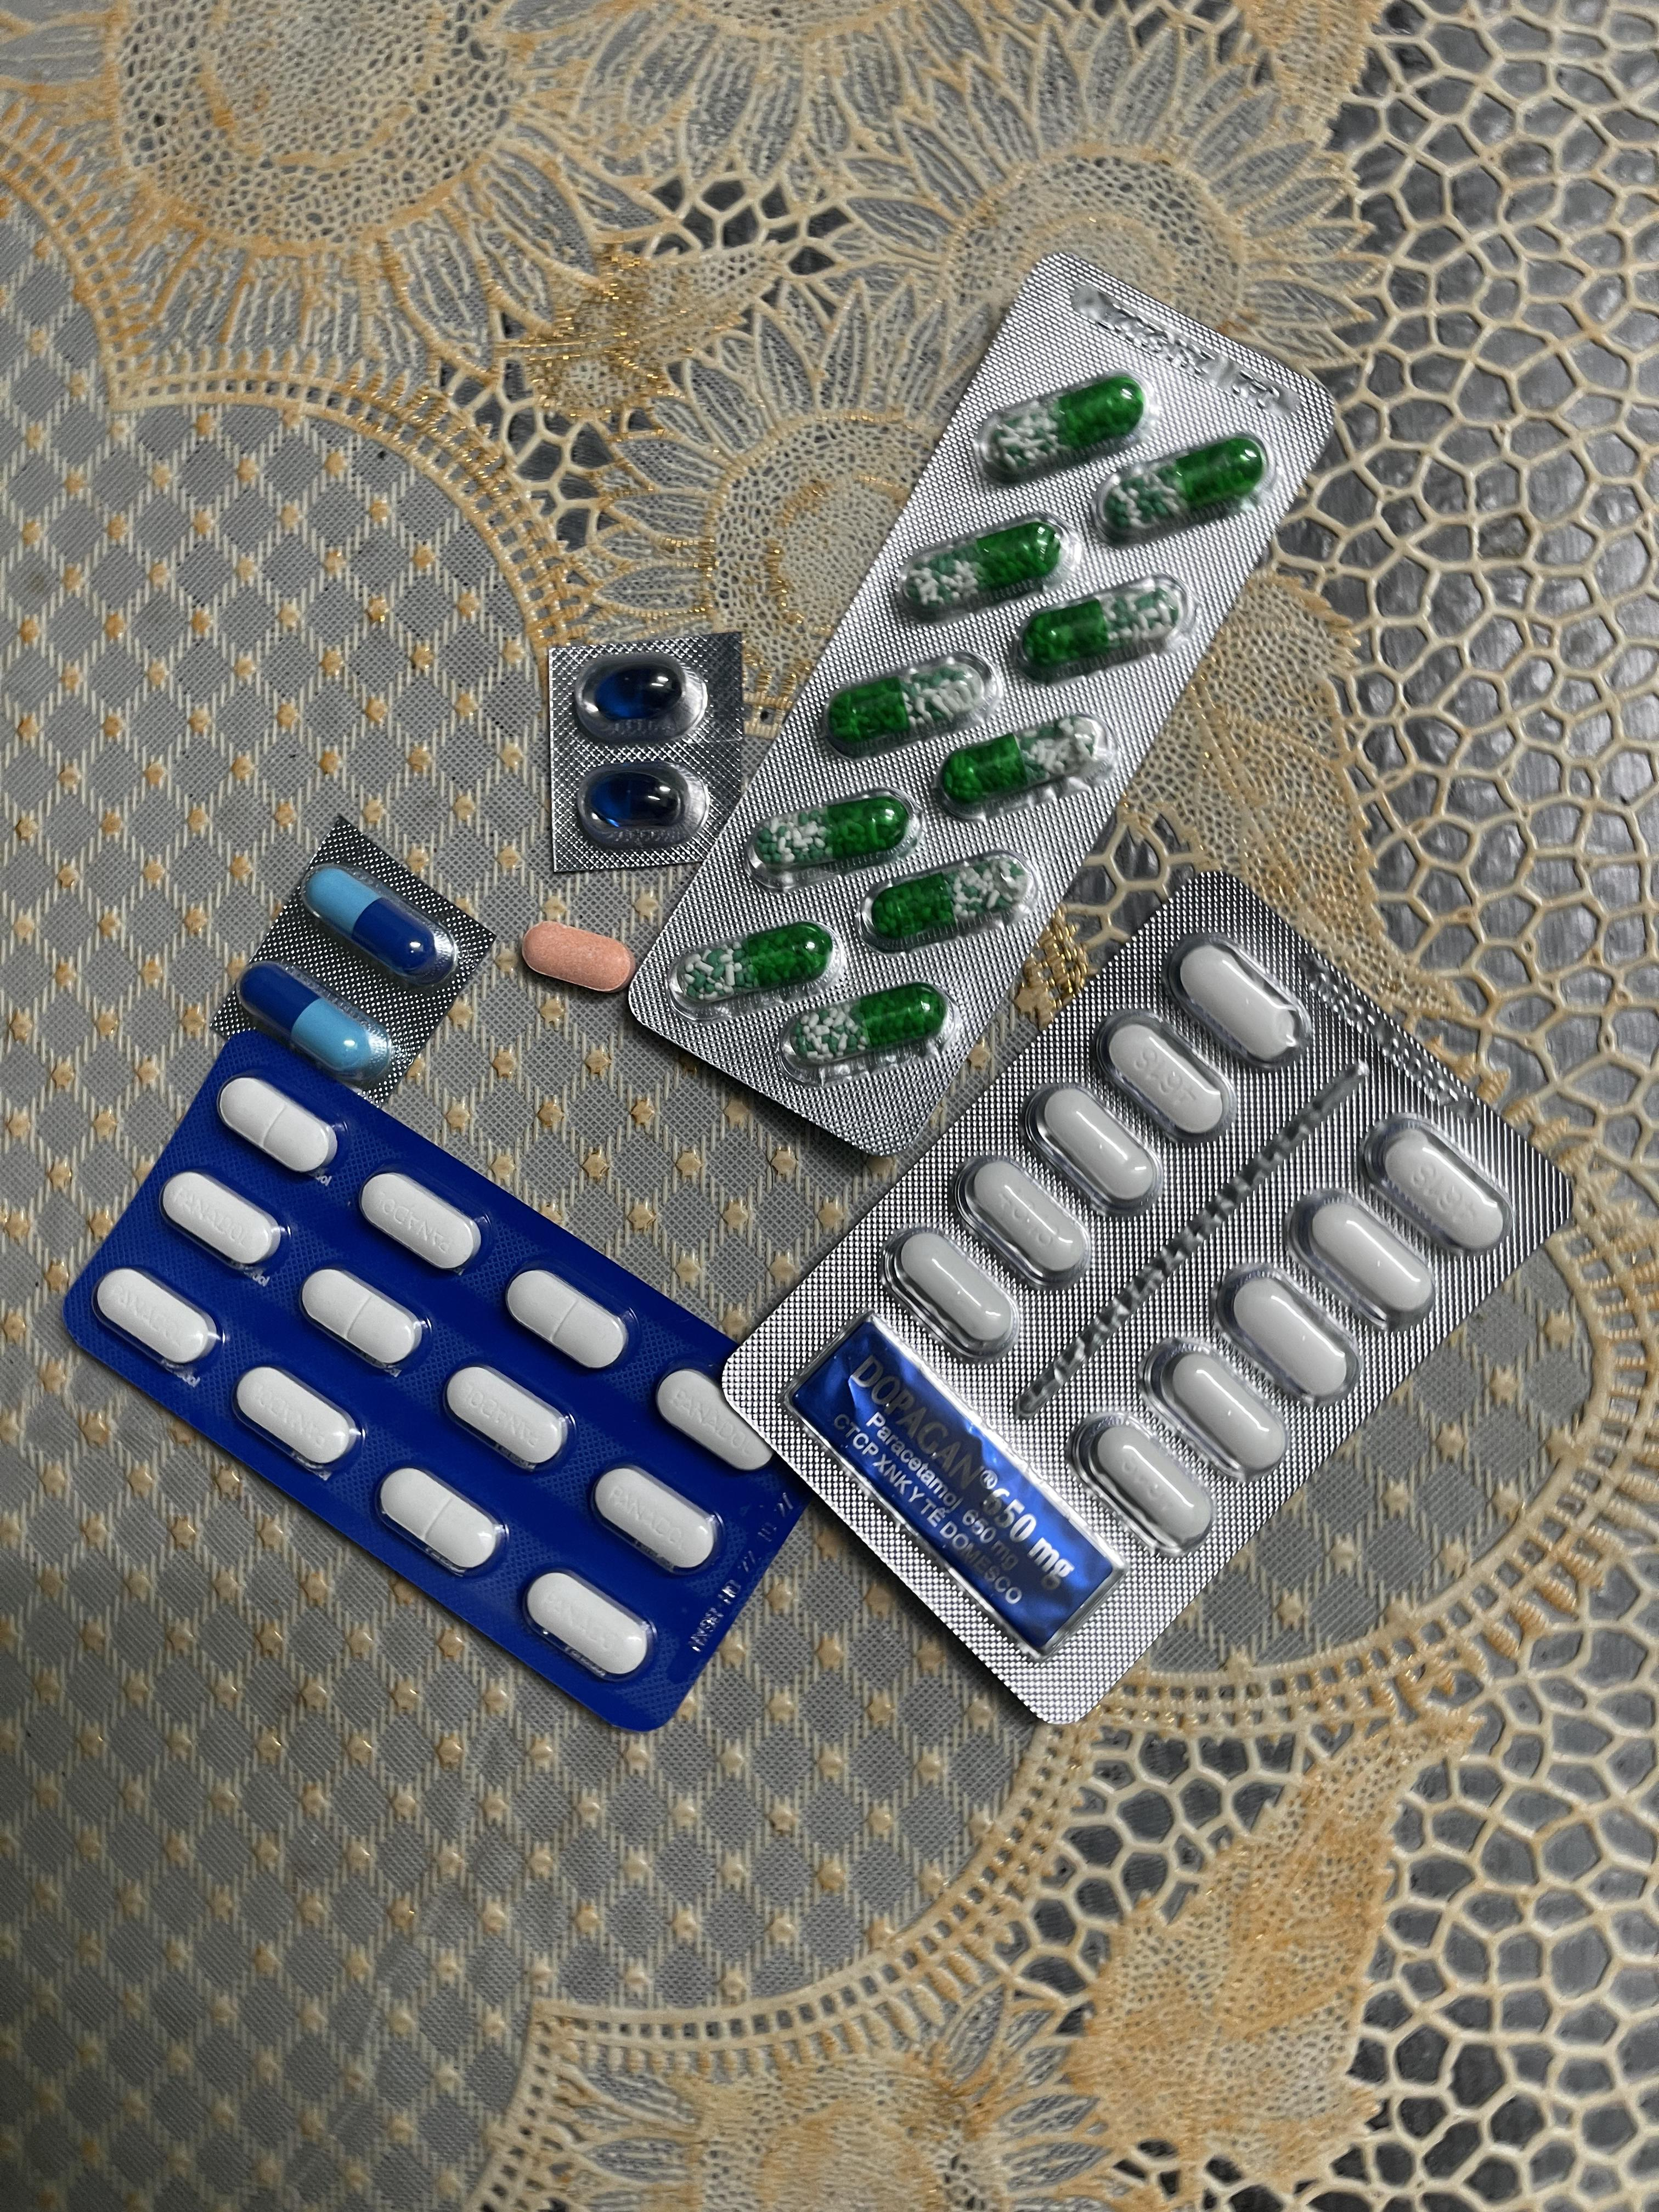Lincomyxin_500mg: (588, 770, 682, 832), (592, 662, 682, 720)
Loratadine_10mg: (518, 922, 636, 993)
Paracetamol_350mg: (524, 1570, 654, 1681), (591, 1466, 719, 1576), (444, 1364, 568, 1470), (235, 1365, 358, 1471), (378, 1468, 500, 1573), (94, 1267, 216, 1370), (507, 1268, 631, 1369), (161, 1172, 286, 1271), (656, 1369, 770, 1474), (300, 1268, 419, 1367), (361, 1172, 480, 1271), (216, 1072, 341, 1160)
Paracetamol_500mg: (1363, 1116, 1516, 1264), (1285, 1189, 1435, 1334), (1221, 1261, 1371, 1403), (1146, 1338, 1290, 1481), (1068, 1411, 1209, 1555), (882, 1221, 1024, 1361), (1165, 930, 1308, 1068), (950, 1152, 1093, 1287), (1096, 1007, 1233, 1139), (1026, 1084, 1158, 1215)
Paracetamol_650mg: (945, 694, 1132, 808), (977, 370, 1148, 485), (895, 511, 1067, 618), (1098, 434, 1267, 541), (828, 652, 999, 746), (783, 978, 943, 1071), (1021, 583, 1180, 676), (864, 855, 1022, 944), (751, 791, 909, 874), (679, 923, 833, 1006)
pill: (302, 865, 448, 985), (238, 963, 390, 1075)
